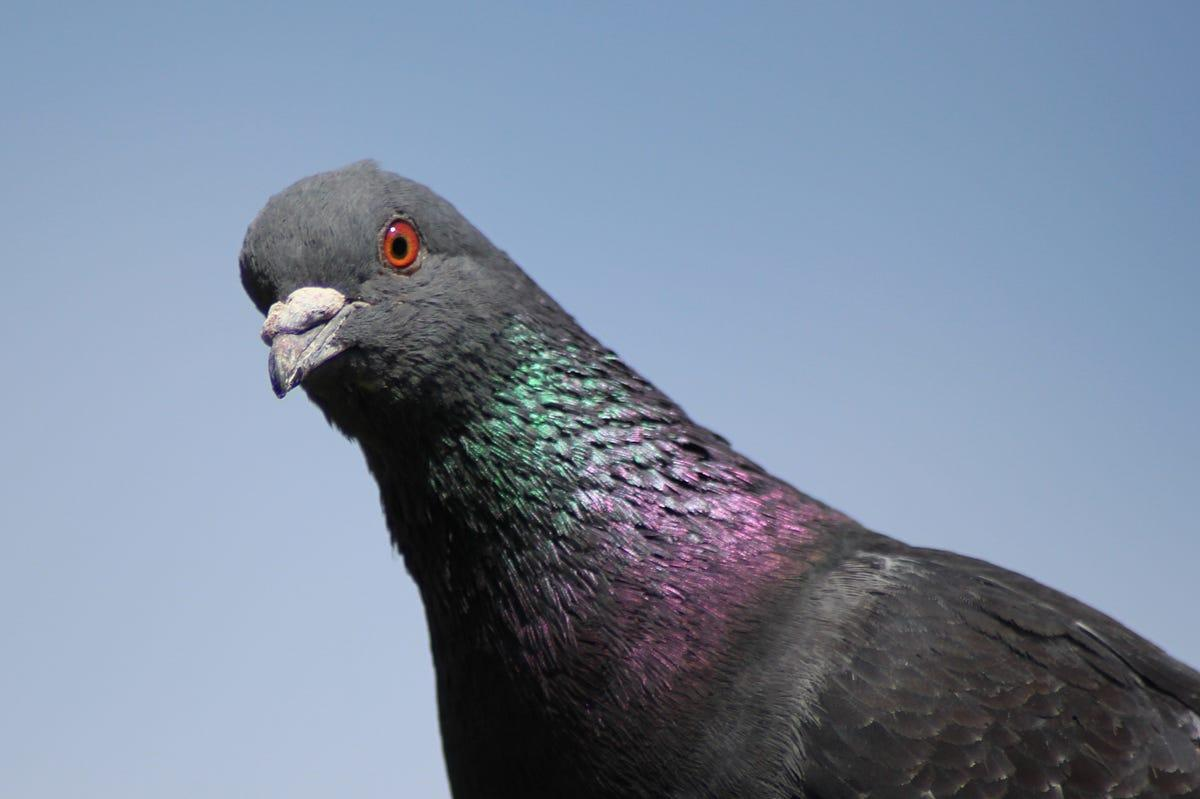Flying Rat: (228, 169, 1200, 799)
